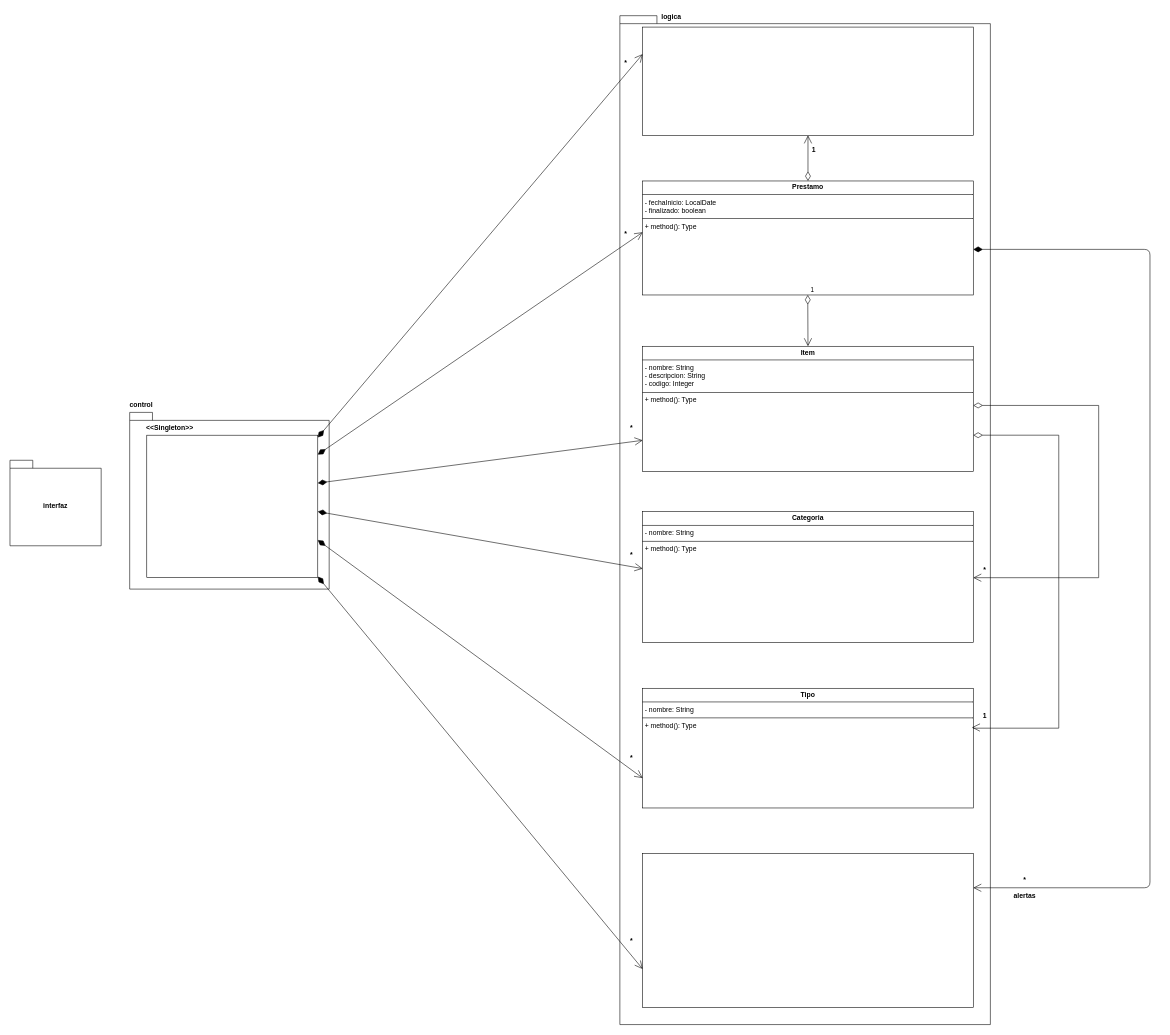
The diagram is 1170 pixels wide and 1035 high, and some of its shapes have lost their labels. The shapes that lost their labels are listed below. From the top down, each one's centre as x and y in pixels, then its label:
At point (807, 81): "Persona - nombre: String - telefono: String - correo: String + method(): Type".
At point (232, 506): "ControladoraPrestamos".
At point (807, 930): "Reporte - mensaje: String + method(): Type".
